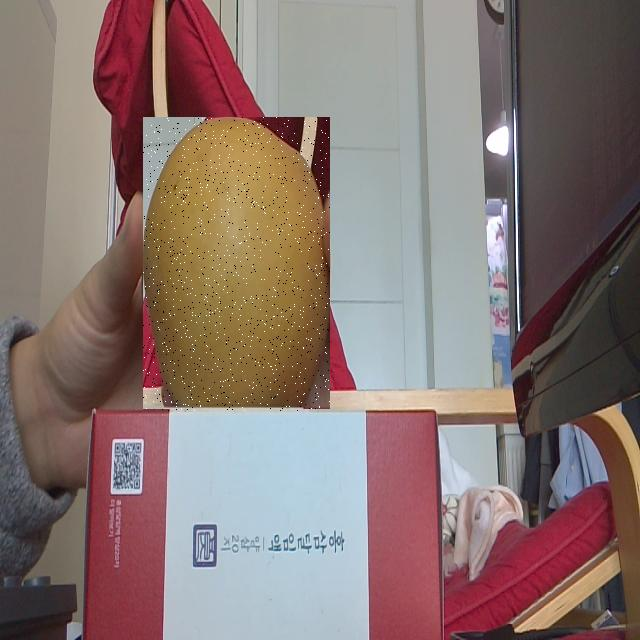pear: (143, 118, 330, 412)
